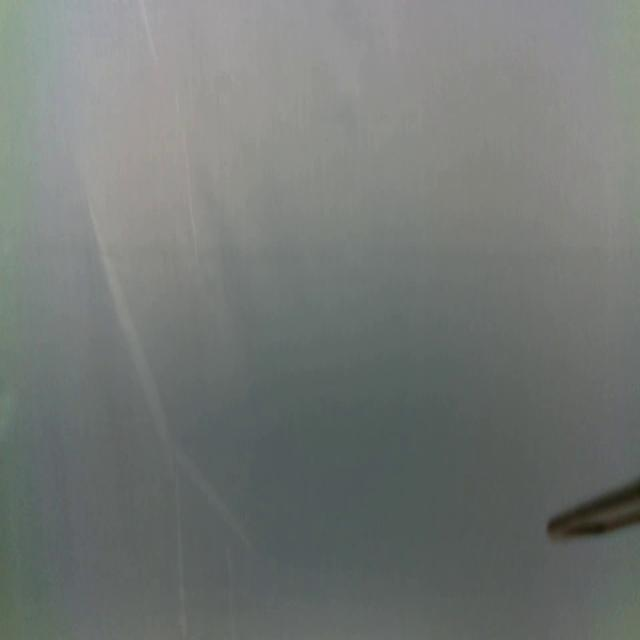crease: (88, 195, 169, 460), (182, 450, 255, 561), (176, 91, 202, 270), (173, 471, 188, 640), (140, 0, 162, 71)
